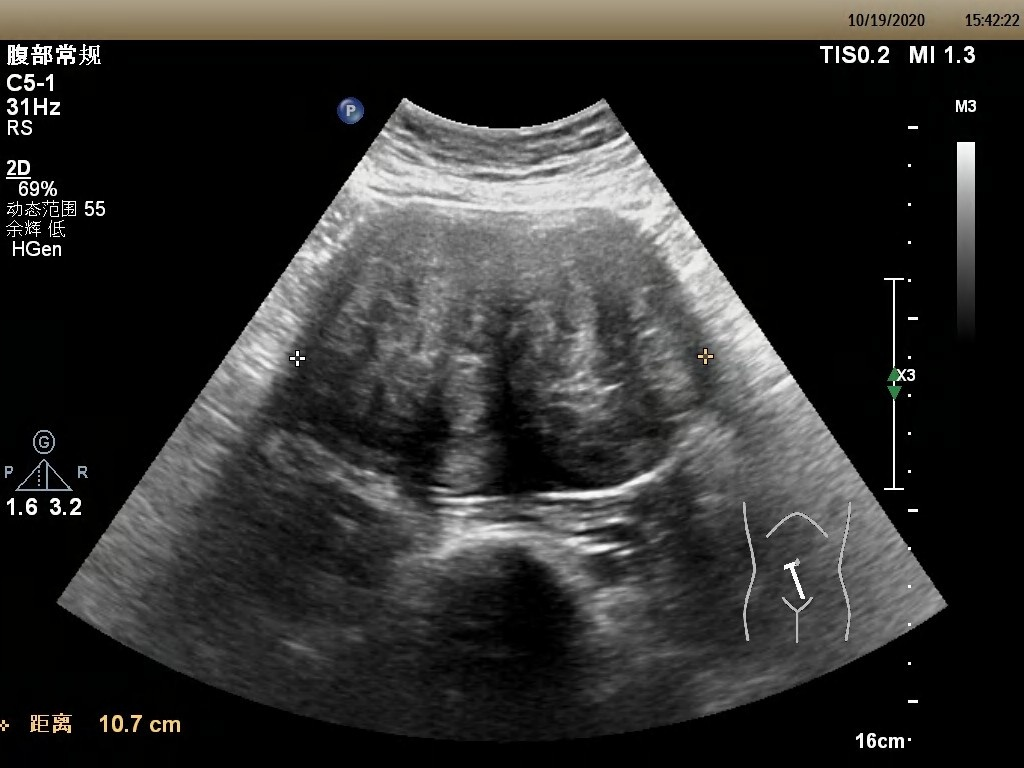肌瘤: (293, 211, 712, 503)
